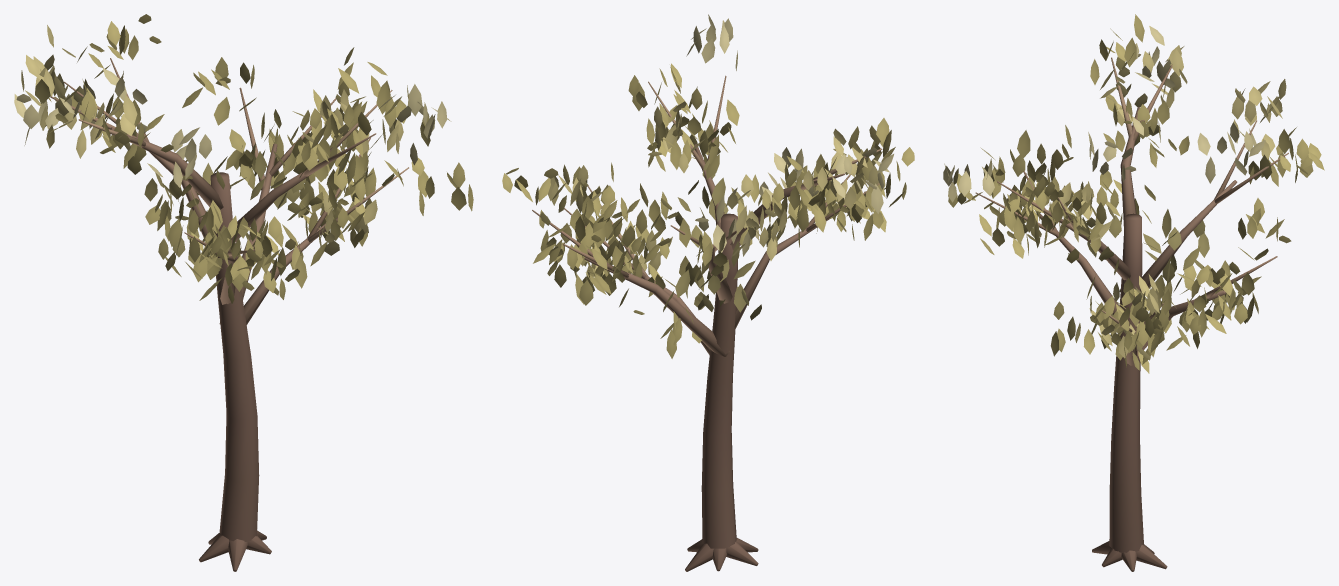
The model's file is tree_3d_01_yellow.glb.
3 views of the same model, side by side, from view 1: azimuth 30°, elevation 25°; view 2: azimuth 150°, elevation 25°; view 3: azimuth 270°, elevation 25° (orthographic). The views are drawn at different scales.
Visible parts, largest first — view 1: tree_3d_01_yellow_foliage, tree_3d_01_yellow_wood; view 2: tree_3d_01_yellow_foliage, tree_3d_01_yellow_wood; view 3: tree_3d_01_yellow_foliage, tree_3d_01_yellow_wood.
Boxes of the visible parts, x1=… form: tree_3d_01_yellow_foliage: x1=14, y1=14, x2=473, y2=303; tree_3d_01_yellow_wood: x1=50, y1=58, x2=408, y2=571; tree_3d_01_yellow_foliage: x1=502, y1=14, x2=914, y2=358; tree_3d_01_yellow_wood: x1=532, y1=75, x2=882, y2=571; tree_3d_01_yellow_foliage: x1=943, y1=14, x2=1324, y2=373; tree_3d_01_yellow_wood: x1=975, y1=57, x2=1288, y2=571.
Size of the model in its own units: 8.25 by 10.14 by 7.53.
